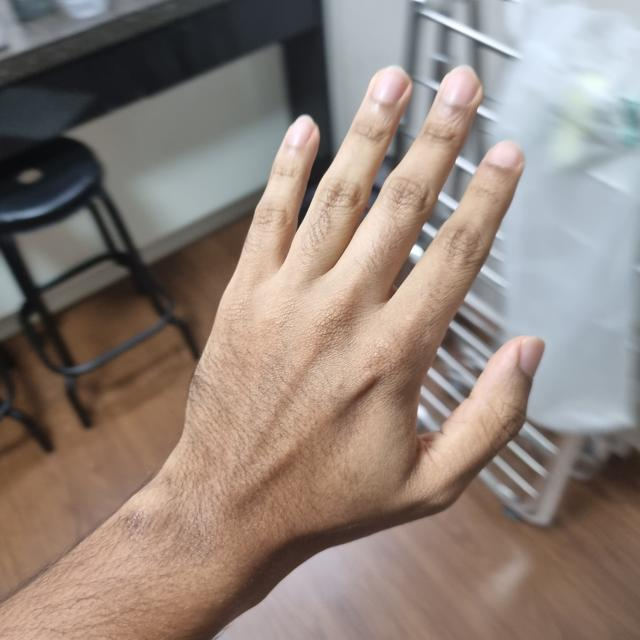Paper: (159, 71, 538, 579)
